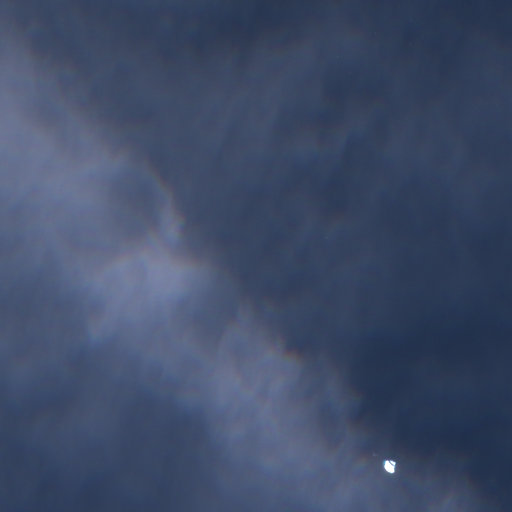Iceberg: (384, 460, 395, 472)
